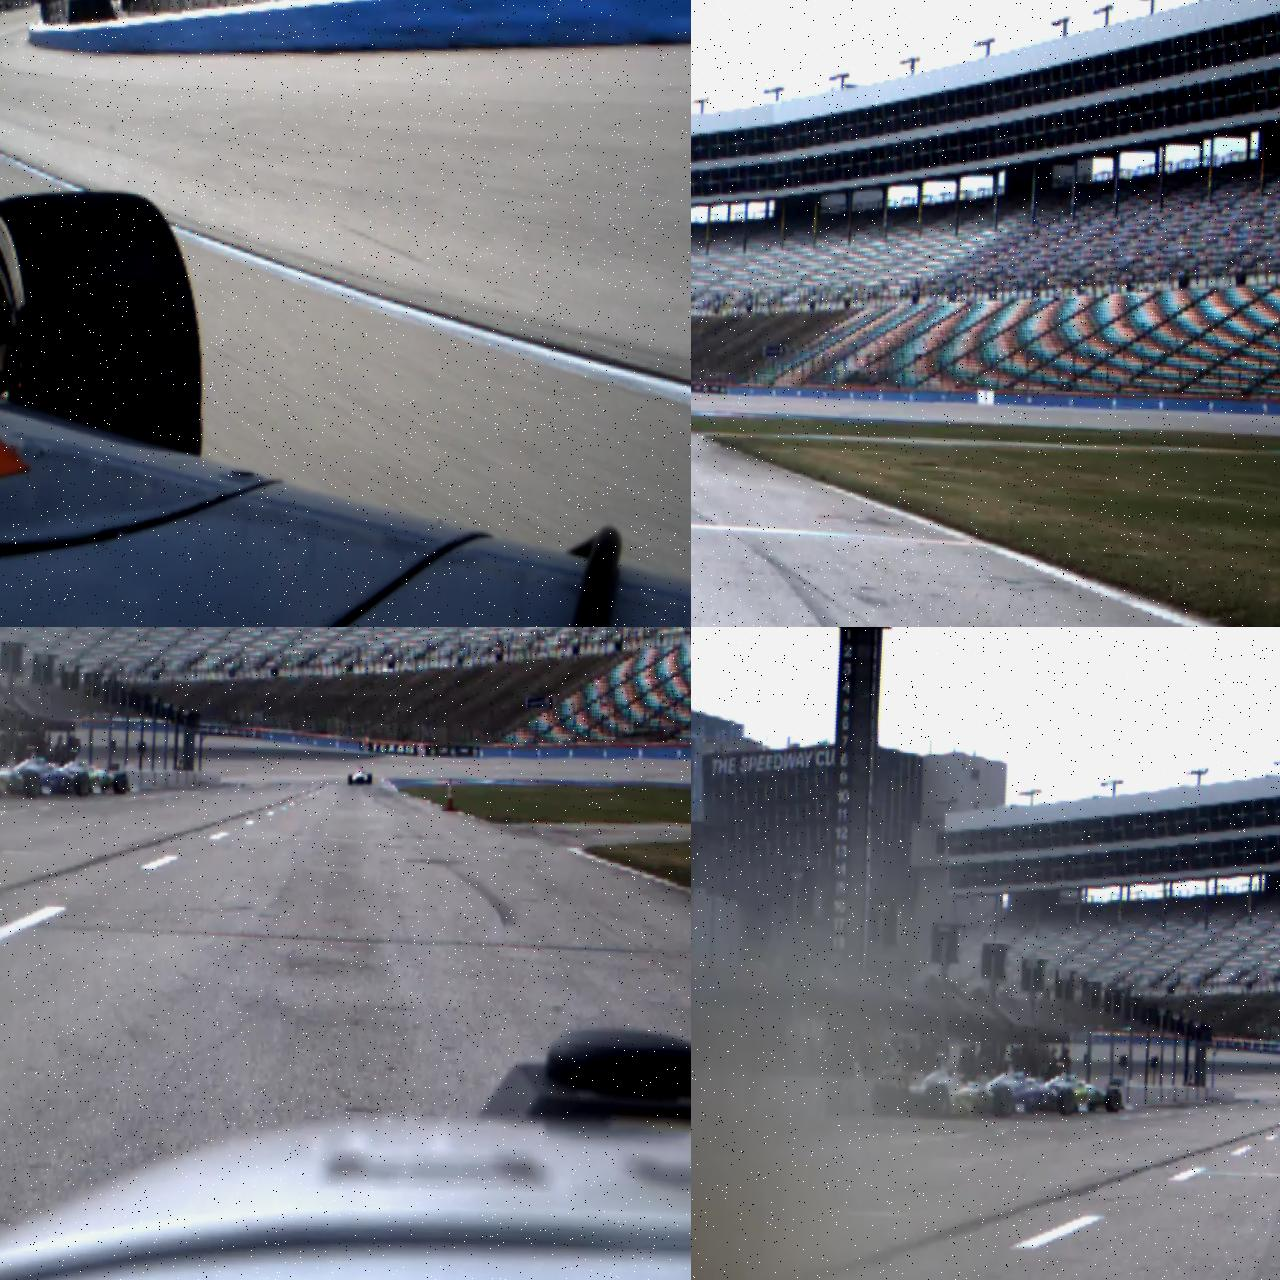AV: (871, 1048, 1028, 1124), (348, 765, 372, 785)
Wheel: (0, 185, 215, 456), (922, 1083, 949, 1119), (871, 1083, 896, 1117), (993, 1084, 1014, 1117), (1056, 1087, 1076, 1116), (22, 771, 40, 797), (73, 771, 90, 797), (1104, 1088, 1122, 1114), (113, 772, 128, 794), (367, 774, 372, 783), (347, 775, 352, 784)
